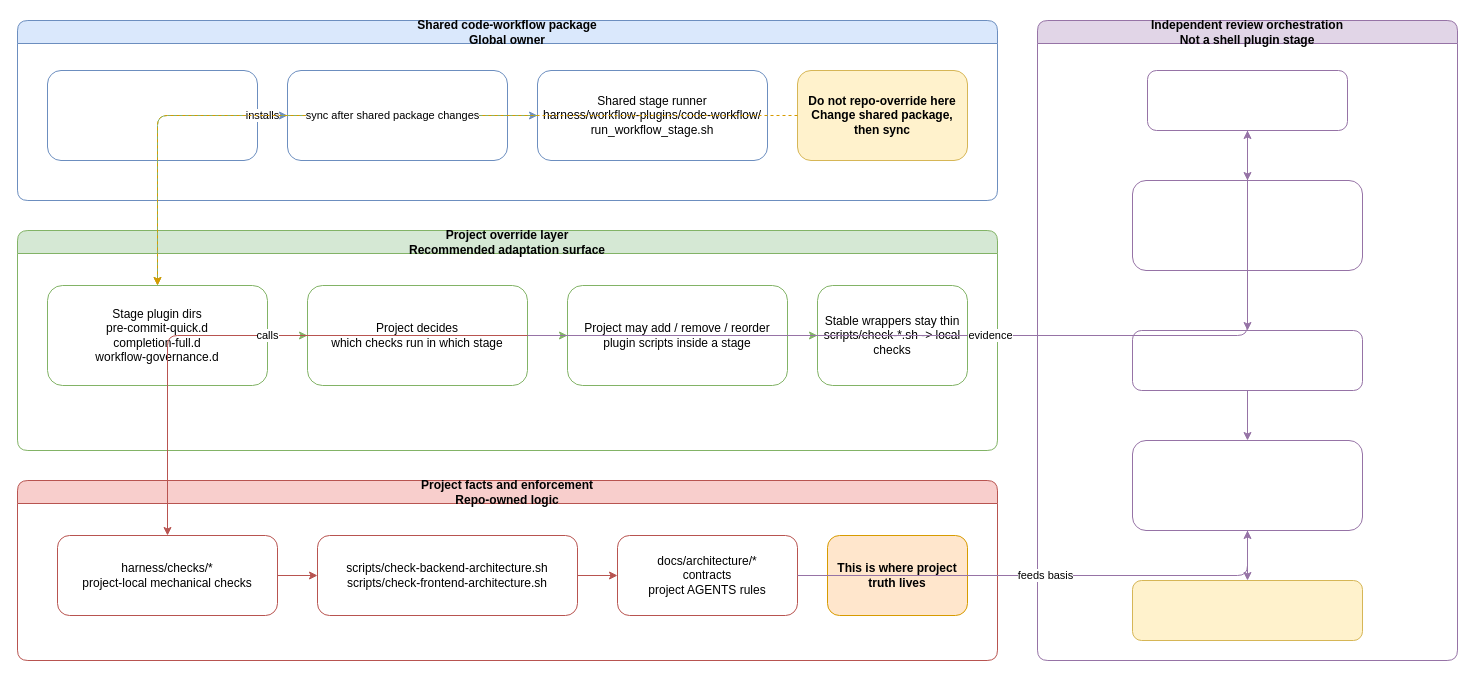
This 1475x678 diagram has some shape labels left out. The box of each missing label's shape, as (x1, y1, x2, y2) in pixels:
Compact review packet plan + diff + validation + architecture inputs + risks: (1132, 180, 1362, 270)
completion-full evidence: (1146, 70, 1348, 130)
Independent code-reviewer agent: (1132, 330, 1362, 390)
Managed assets installed scripts/start-implementation.sh check-startup-gate.sh: (286, 70, 508, 160)
Only after review passes: workflow-governance / archive / handoff: (1132, 580, 1362, 640)
Reviewer uses project docs, project checks, and local rules as review basis: (1132, 440, 1362, 530)
Workflow semantics stage model, startup gate, independent review contract: (46, 70, 258, 160)
